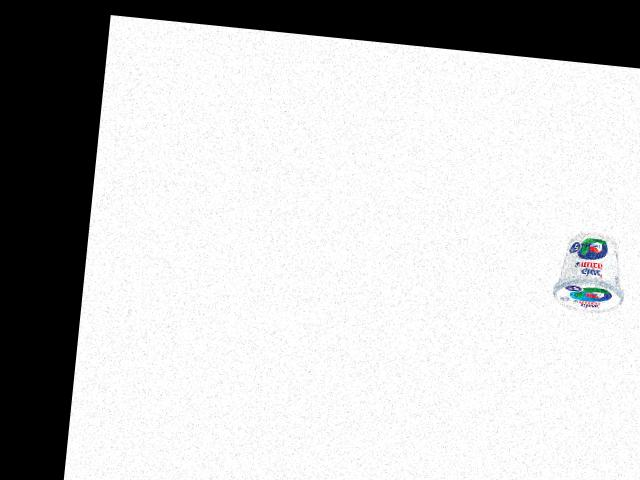cotage: (553, 229, 632, 317)
